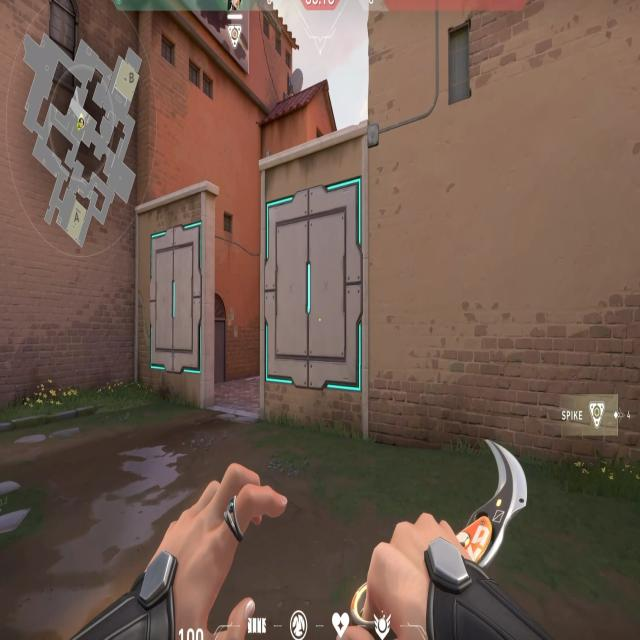Mid_Wall: (260, 173, 364, 394), (150, 219, 202, 383)
